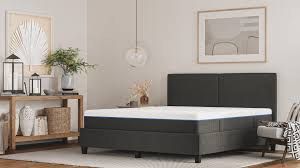bed-matress: (80, 102, 275, 135)
